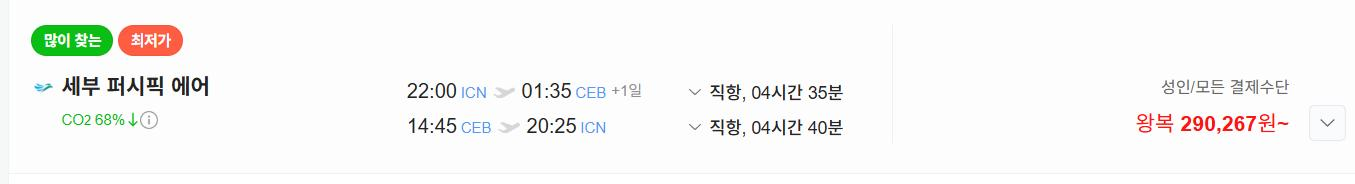button: (1309, 103, 1346, 142), (686, 115, 705, 134), (685, 82, 705, 99)
